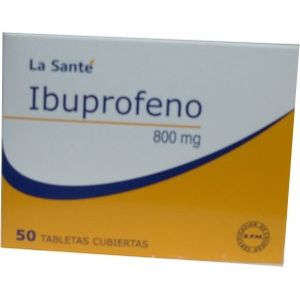LaSante: (2, 33, 294, 264)
